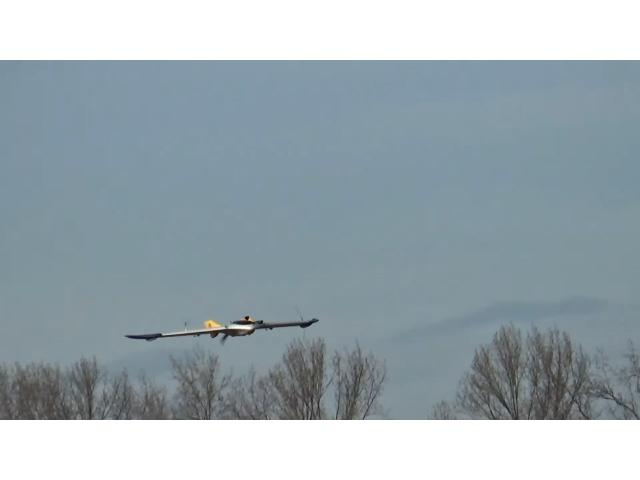Anti-Drone: (125, 316, 319, 340)
